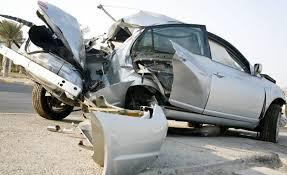rear-bumper-dent: (35, 53, 97, 98)
